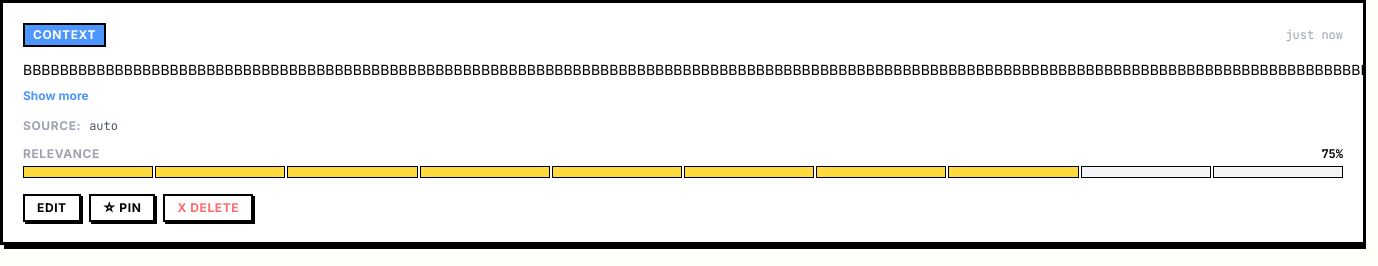
MemoryCard › expands content when 'Show more' is clicked
This screenshot has width=1378, height=266.
What coordinates should you click on to do the following:
click the button with test id "content-toggle"
I would click on:
 (56, 96)
Its box is [23,88,89,104].
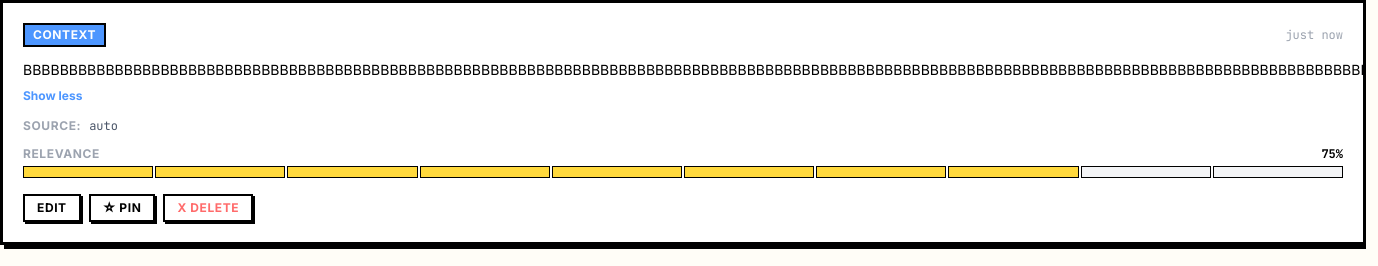
Now the button with test id "content-toggle" reads "Show less", box [23,88,82,104]
